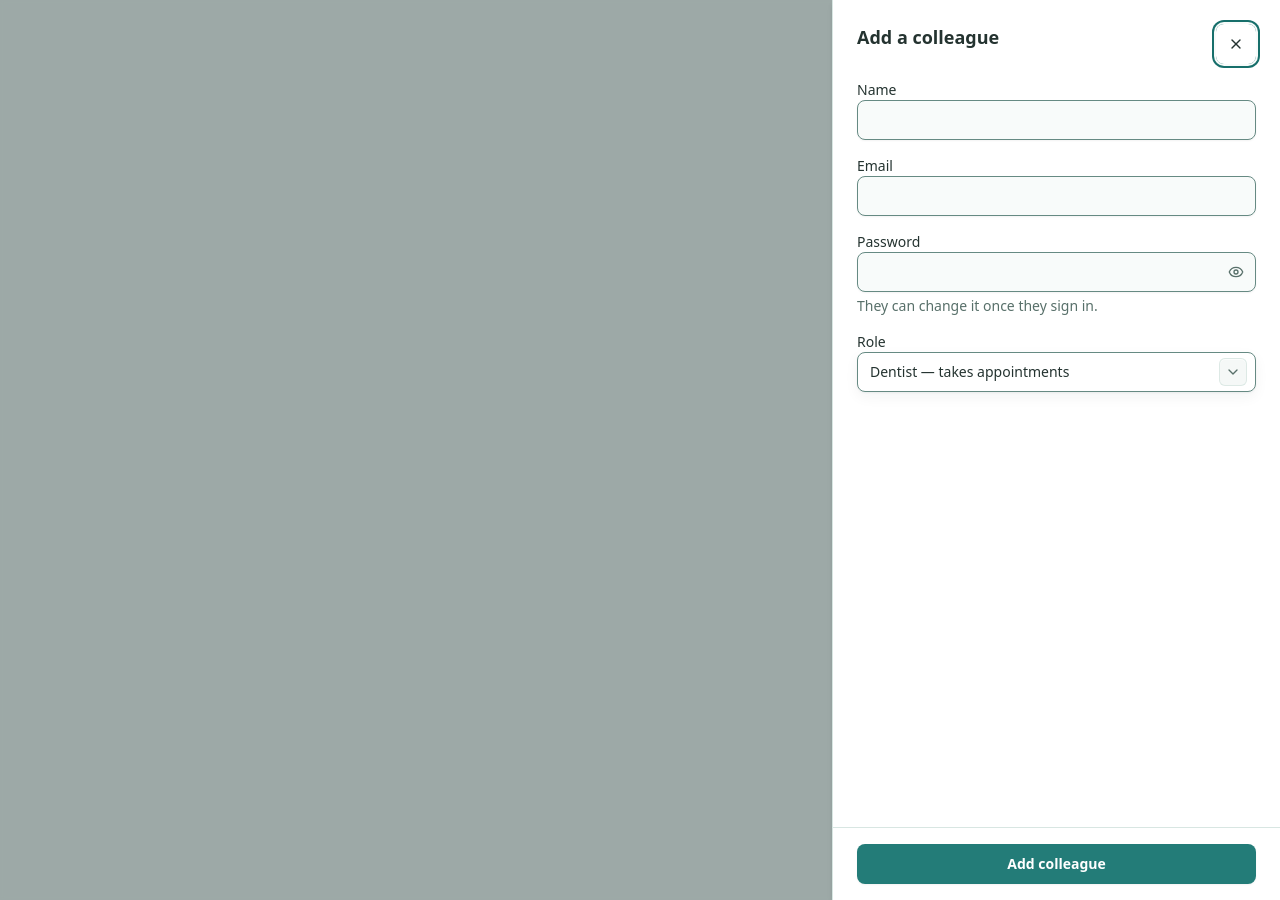
Test case: StaffDialog › offers only the roles the API will accept
Click the dropdown named "Role".
click(1056, 372)  # box [857, 352, 1256, 392]
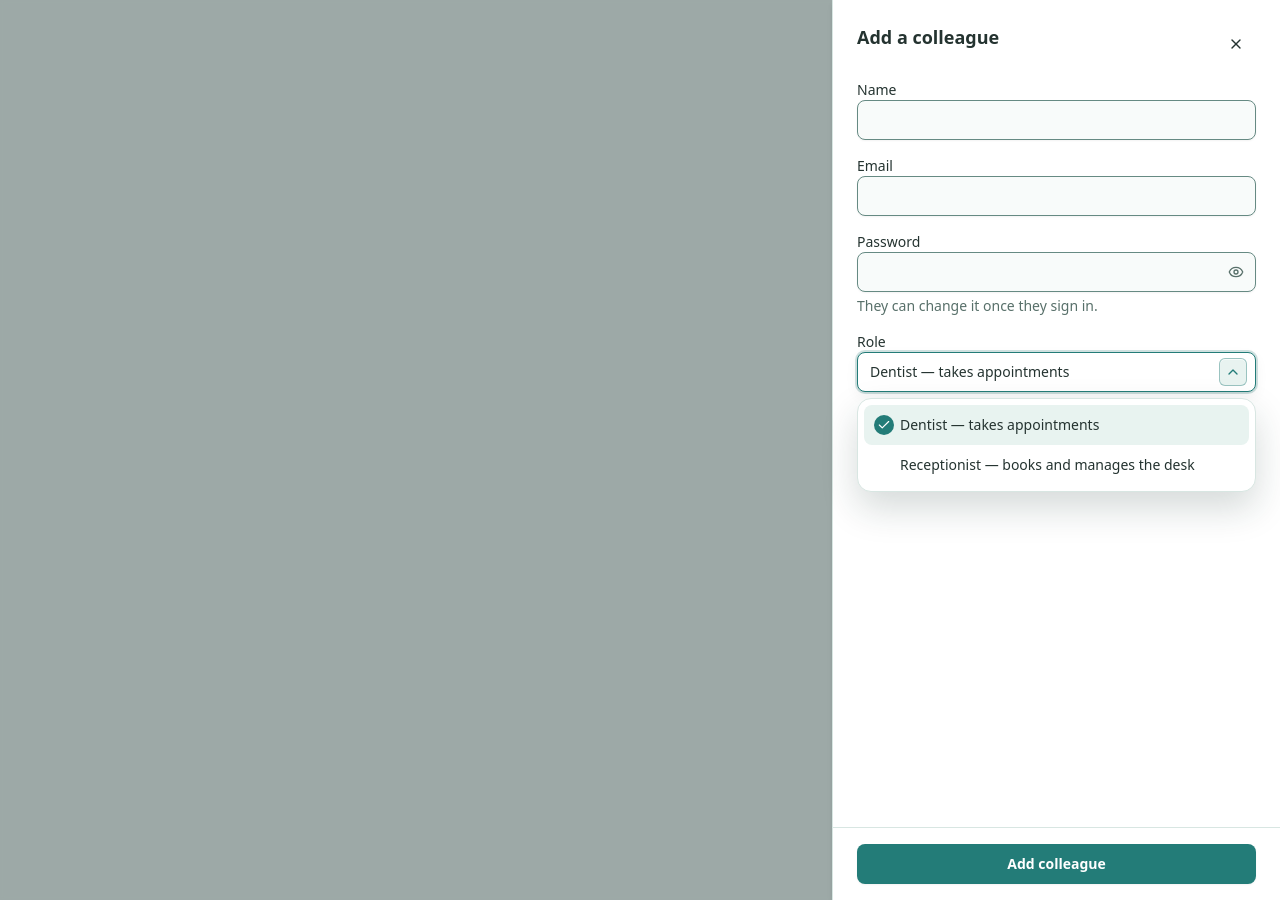
Result: the options read "Dentist — takes appointments", "Receptionist — books and manages the desk", in this order at [864, 405, 1249, 445]; [900, 455, 1195, 474]
